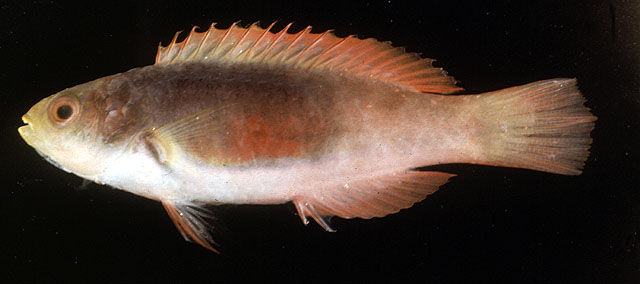fish: (18, 20, 598, 254)
